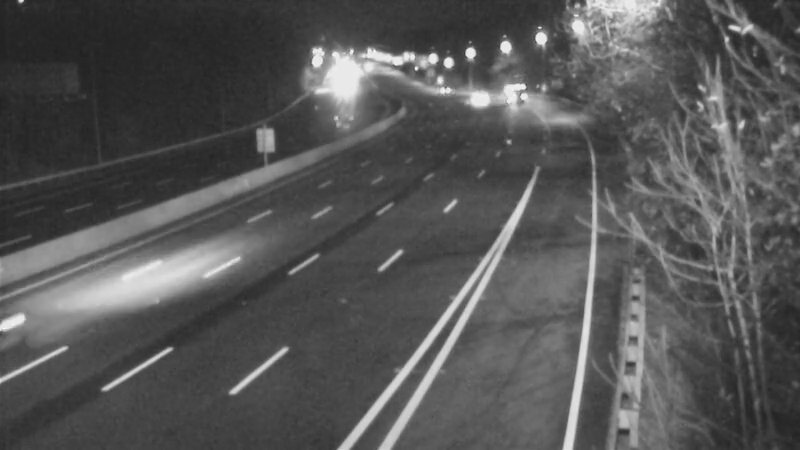vehicle: (429, 67, 479, 117), (481, 64, 531, 114), (448, 72, 498, 122)
